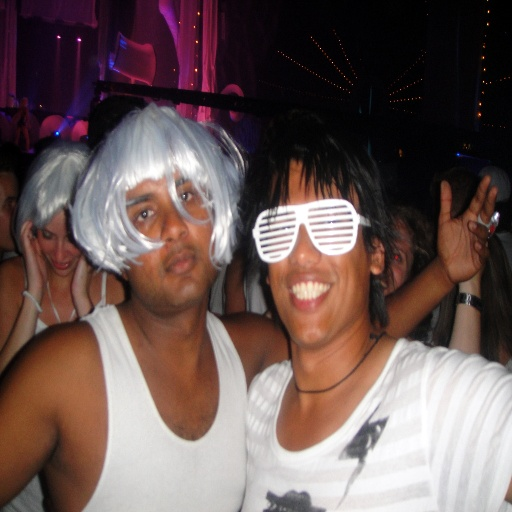hand: (432, 163, 499, 307), (19, 221, 48, 296), (70, 253, 92, 296), (462, 267, 483, 285)
